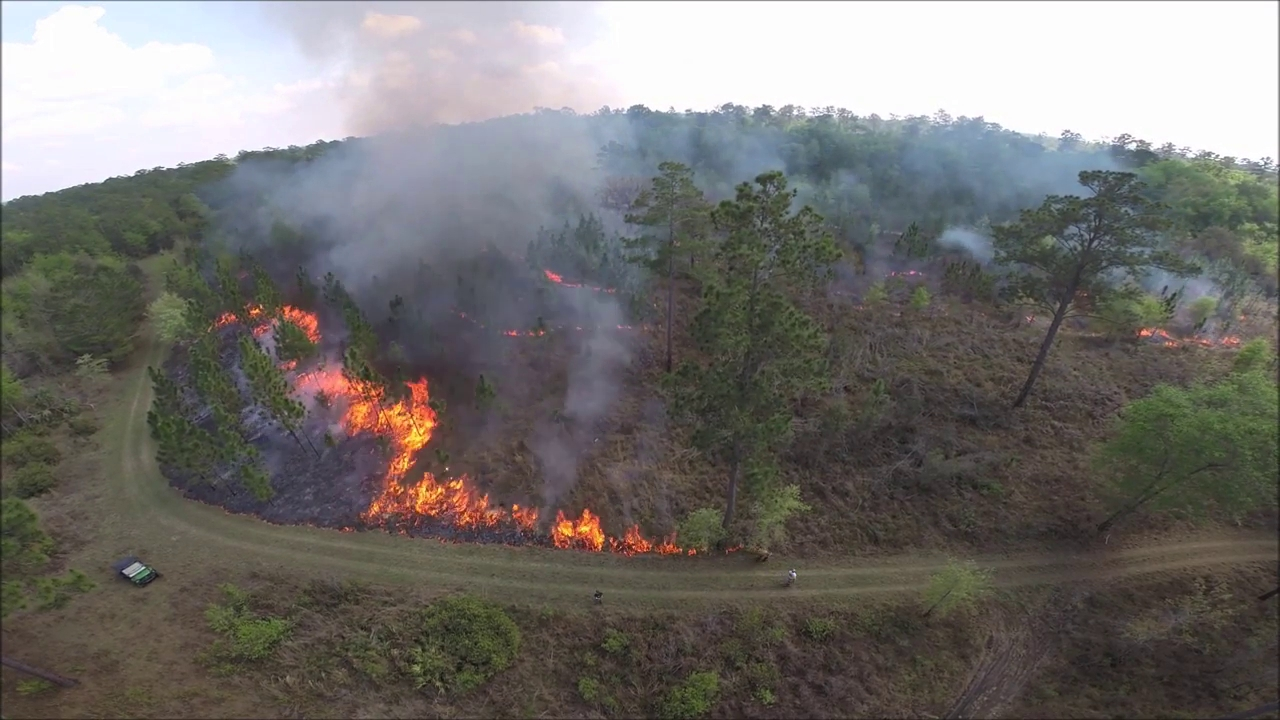forest_fire: (280, 363, 537, 532), (547, 508, 695, 553), (1137, 327, 1240, 346), (542, 269, 615, 293), (280, 306, 319, 340), (246, 304, 275, 335), (501, 328, 549, 337), (215, 312, 238, 326), (887, 271, 923, 276), (611, 324, 638, 329), (1025, 315, 1035, 323)
